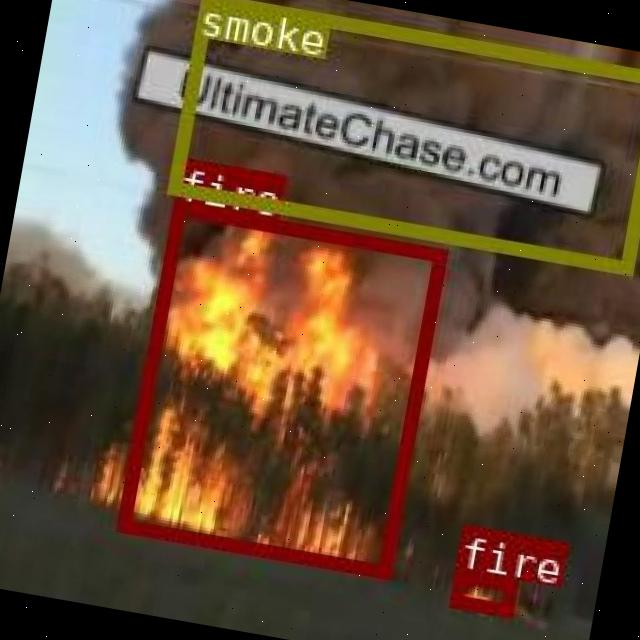fire: (116, 200, 444, 576), (448, 566, 516, 614)
smoke: (165, 0, 640, 271)
